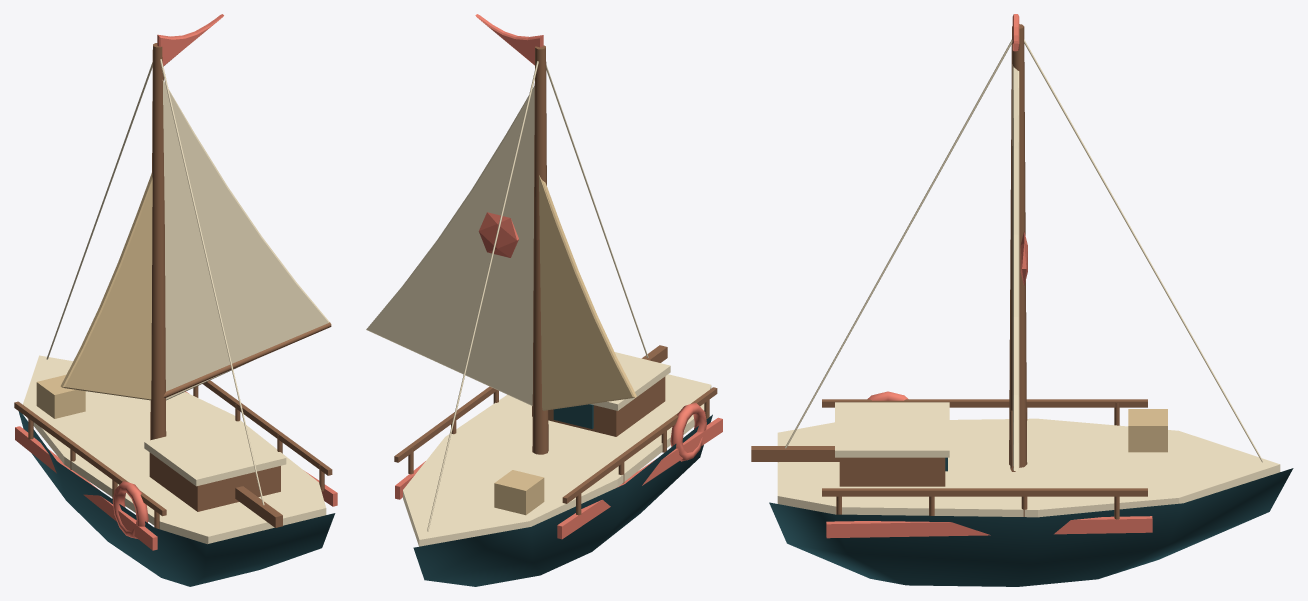
The model's file is vessel-steady.glb.
3 renders of one model, left to right at view 1: azimuth 30°, elevation 25°; view 2: azimuth 150°, elevation 25°; view 3: azimuth 270°, elevation 25°, orthographic. The views are drawn at different scales.
Visible parts, largest first — view 1: mainsail, laid-deck, lapstrake-hull, jib, cabin-roof, main-mast, cabin, gunwale (×2), painted-waterline, supply-crate, backstay, sail-boom (+4 smaller); view 2: mainsail, laid-deck, lapstrake-hull, jib, main-mast, gunwale (×2), cabin, painted-waterline, supply-crate, cabin-roof, sail-star, forestay (+4 smaller); view 3: laid-deck, lapstrake-hull, cabin-roof, gunwale (×2), main-mast, painted-waterline, mainsail, cabin, supply-crate, rudder-tiller, forestay, backstay.
Part boxes in pixels (box(x1,y1,x2,y2)): mainsail: box(162, 80, 331, 400); laid-deck: box(23, 355, 326, 544); lapstrake-hull: box(18, 411, 335, 586); jib: box(60, 173, 152, 400); cabin-roof: box(144, 420, 286, 486); main-mast: box(150, 43, 166, 440); cabin: box(149, 452, 280, 511); gunwale (×2): box(14, 380, 332, 516); painted-waterline: box(15, 426, 157, 550); supply-crate: box(36, 375, 85, 418); backstay: box(160, 59, 264, 505); sail-boom: box(163, 322, 331, 397); mainsail: box(366, 86, 534, 405); laid-deck: box(403, 374, 711, 546); lapstrake-hull: box(413, 414, 712, 586); jib: box(539, 175, 636, 410); main-mast: box(532, 45, 548, 454); gunwale (×2): box(394, 386, 717, 503); cabin: box(532, 376, 665, 436); painted-waterline: box(557, 417, 722, 539); supply-crate: box(494, 470, 544, 515); cabin-roof: box(590, 352, 670, 410); sail-star: box(478, 212, 518, 257); forestay: box(427, 61, 538, 531); laid-deck: box(777, 418, 1280, 517); lapstrake-hull: box(769, 468, 1293, 586); cabin-roof: box(835, 402, 949, 457); gunwale (×2): box(822, 399, 1147, 496); main-mast: box(1009, 24, 1027, 467); painted-waterline: box(826, 516, 1152, 538); mainsail: box(1012, 64, 1019, 470); cabin: box(839, 457, 945, 486); supply-crate: box(1128, 409, 1167, 452); rudder-tiller: box(751, 446, 839, 461); forestay: box(1024, 39, 1263, 462); backstay: box(778, 39, 1012, 462).
Bounding box in the file's own units: 7.71 × 13.78 × 12.3.
